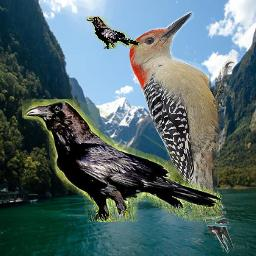Crow: (22, 99, 222, 222), (86, 16, 140, 49)
Woodpecker: (129, 9, 235, 254)
